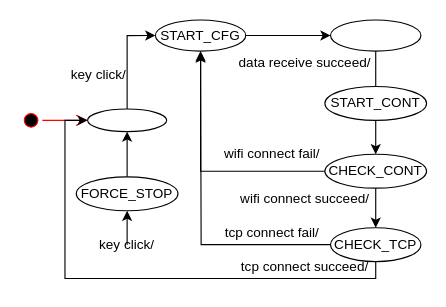
This 446x307 diagram has some shape labels left out. Here are the shapes that lost their labels. From the top down, the centre of each, then its label:
[375,35]: WAIT_CFG
[126,120]: NORMAL
